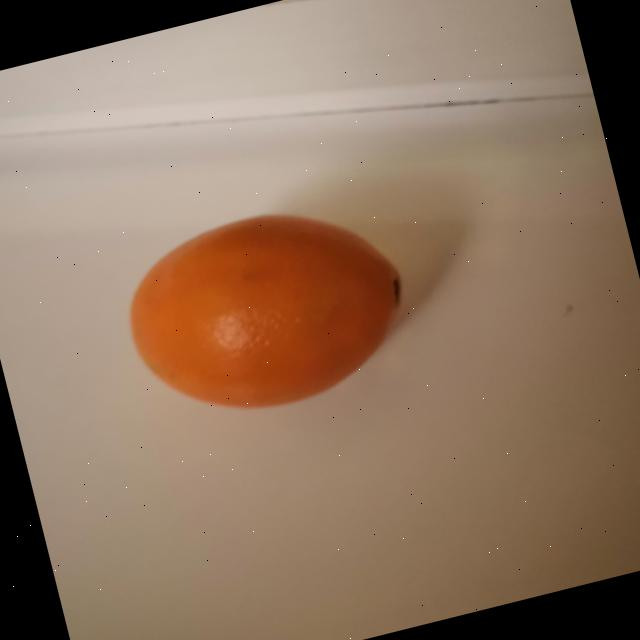orange: (130, 215, 400, 407)
